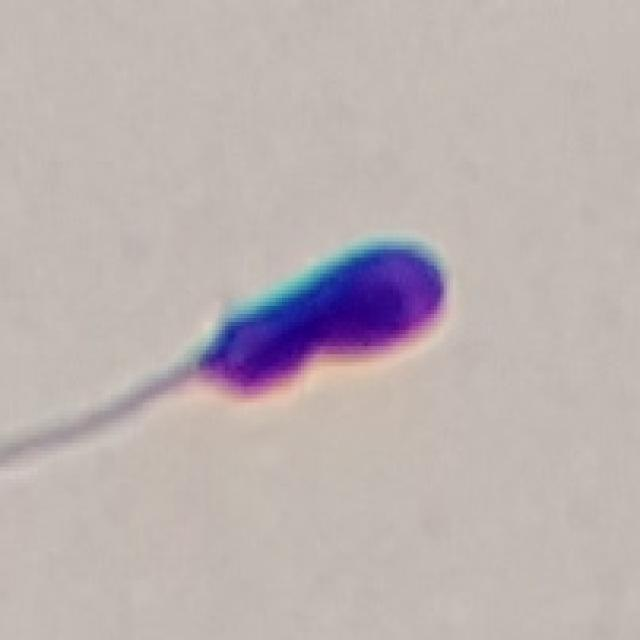abnormal sperm: (6, 237, 446, 474)
